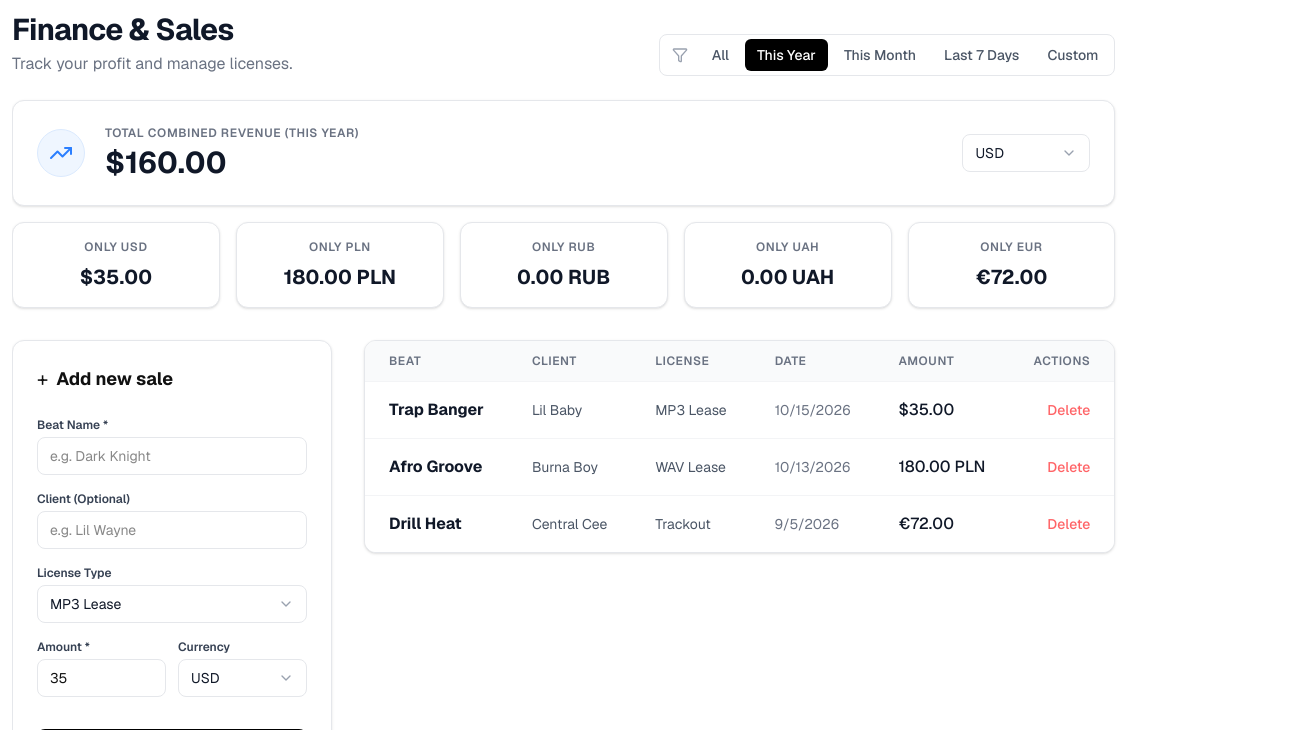
Scenario: FinansePage (/finanse) › filters transactions when switching to "Last 7 Days"
The width and height of the screenshot is (1292, 730).
Expected: the text "Trap Banger" is shown, [365,382,508,438]
Click the button "Last 7 Days" at (982, 55), box [932,39,1031,71]
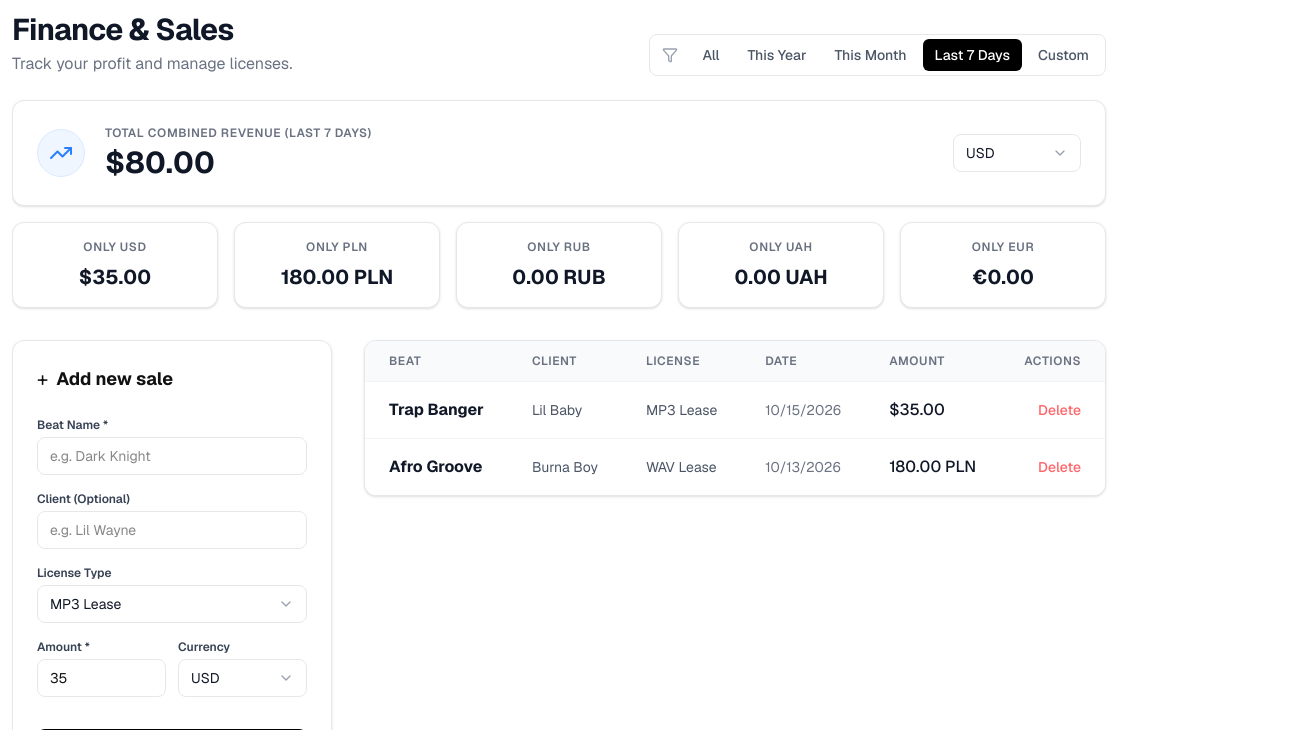
Expected: the text "Trap Banger" is shown, [365,382,508,438]
Result: the text "Drill Heat" is gone
